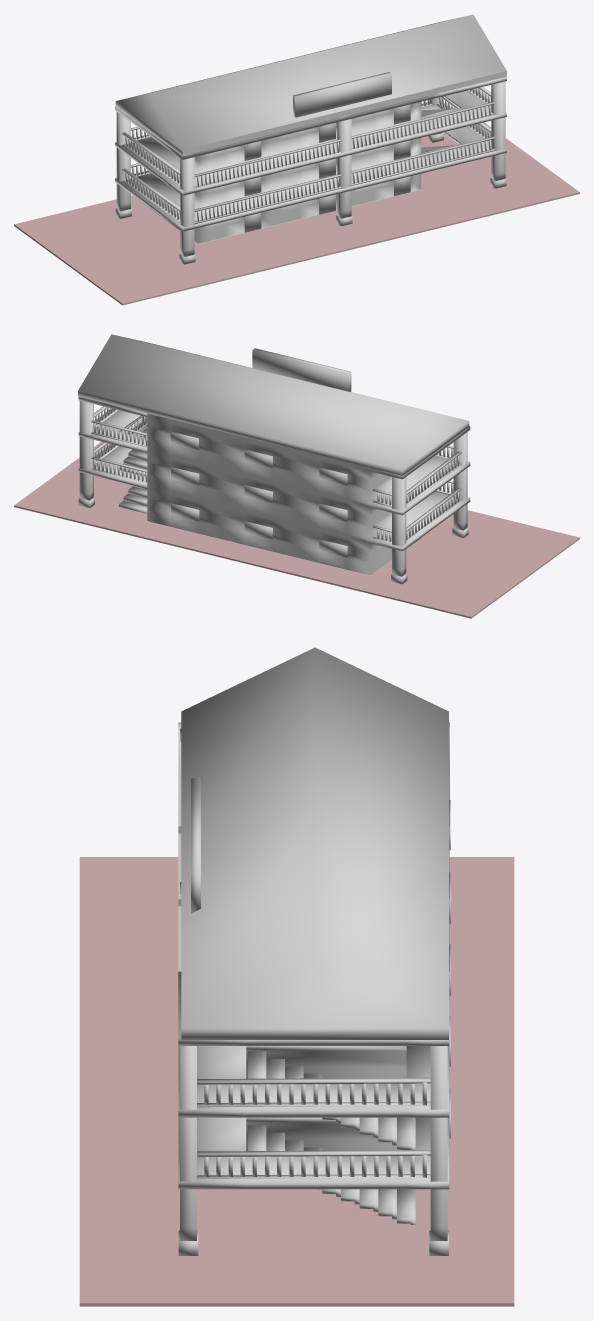
The model's file is Hotel.fbx.
3 renders of one model, top to bottom at view 1: azimuth 30°, elevation 25°; view 2: azimuth 150°, elevation 25°; view 3: azimuth 270°, elevation 25°, orthographic. The views are drawn at different scales.
Visible parts, largest first — view 1: Hotel, Base; view 2: Hotel, Base; view 3: Hotel, Base.
Boxes of the visible parts, x1=… form: Hotel: x1=115, y1=14, x2=506, y2=264; Base: x1=14, y1=122, x2=579, y2=305; Hotel: x1=78, y1=334, x2=470, y2=584; Base: x1=14, y1=428, x2=579, y2=618; Hotel: x1=178, y1=647, x2=450, y2=1255; Base: x1=79, y1=857, x2=514, y2=1306.
Bounding box in the file's own units: 99.4 × 30.74 × 40.9.
